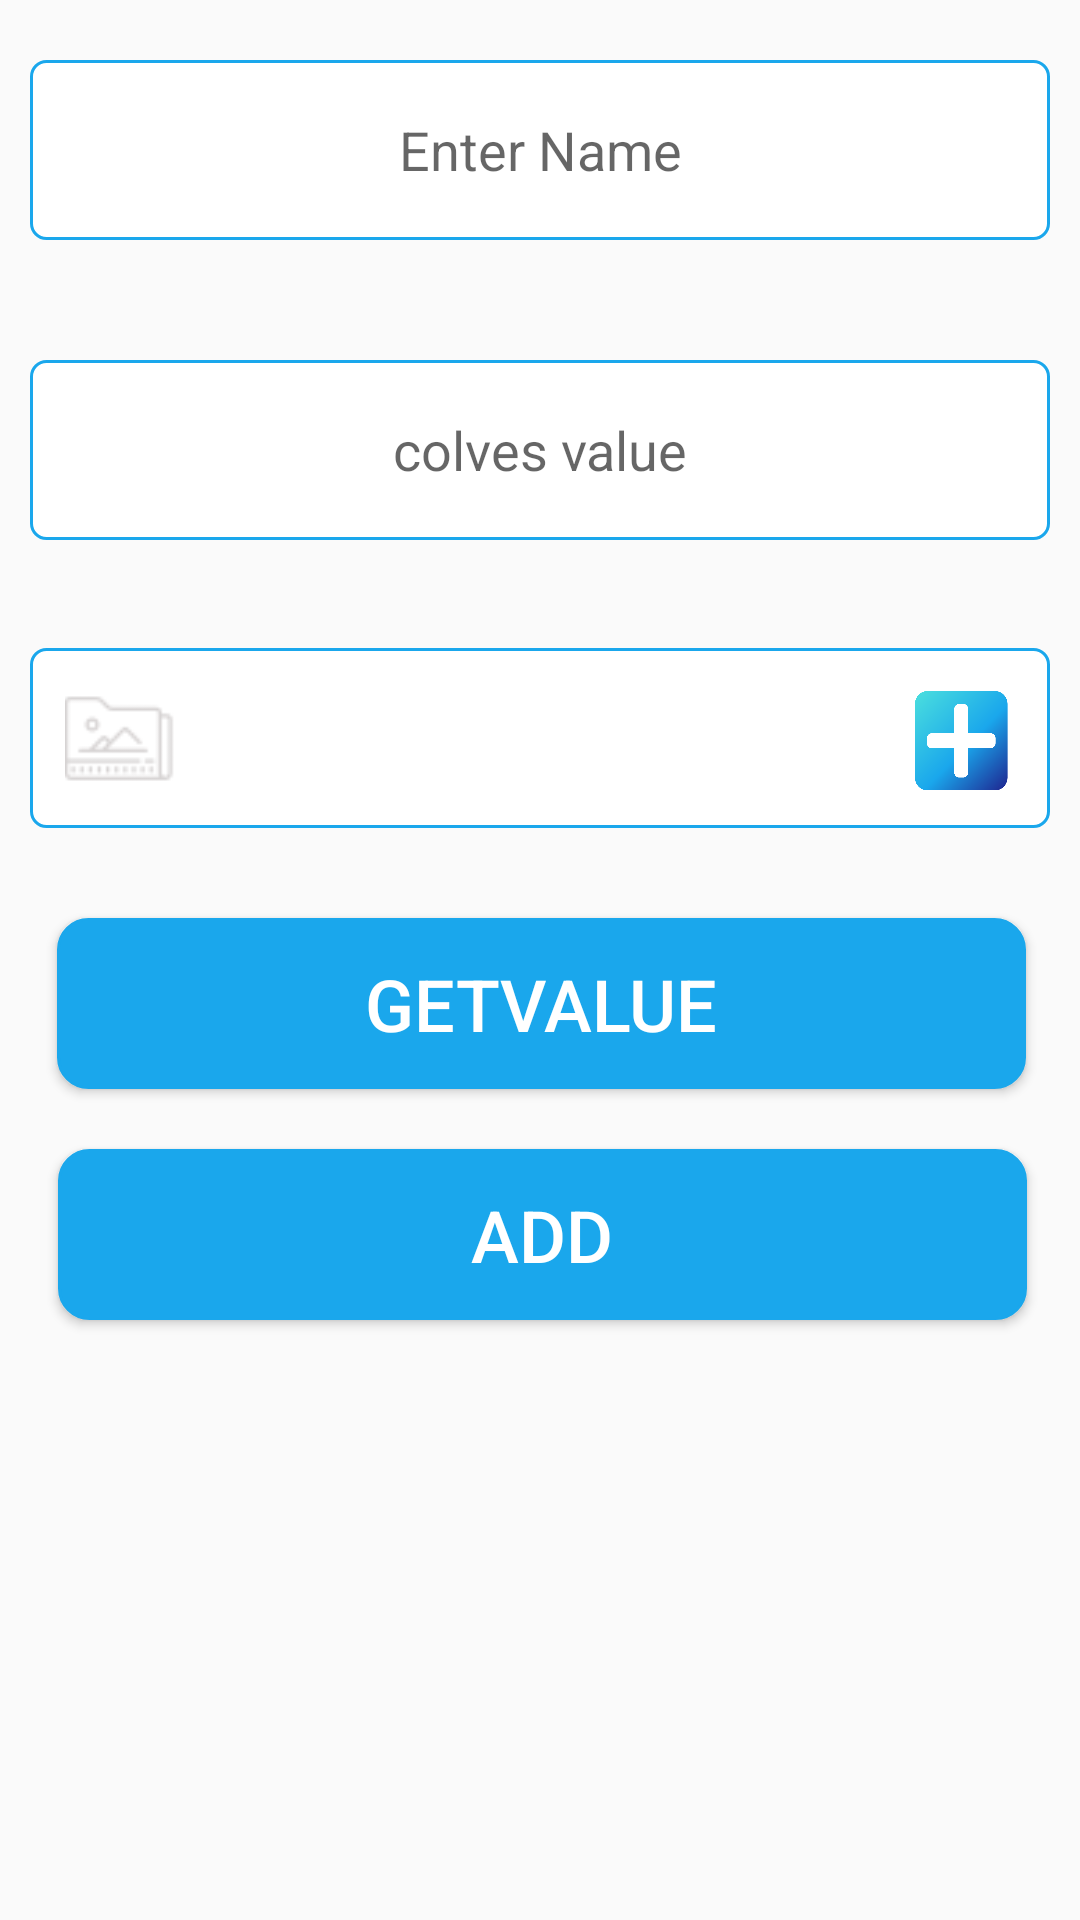

Locate icon controls on the screen. Image size 1080 × 1920, boxes as bbox(x1, y1, x2, y2).
pictures folder: bbox(65, 697, 172, 780)
